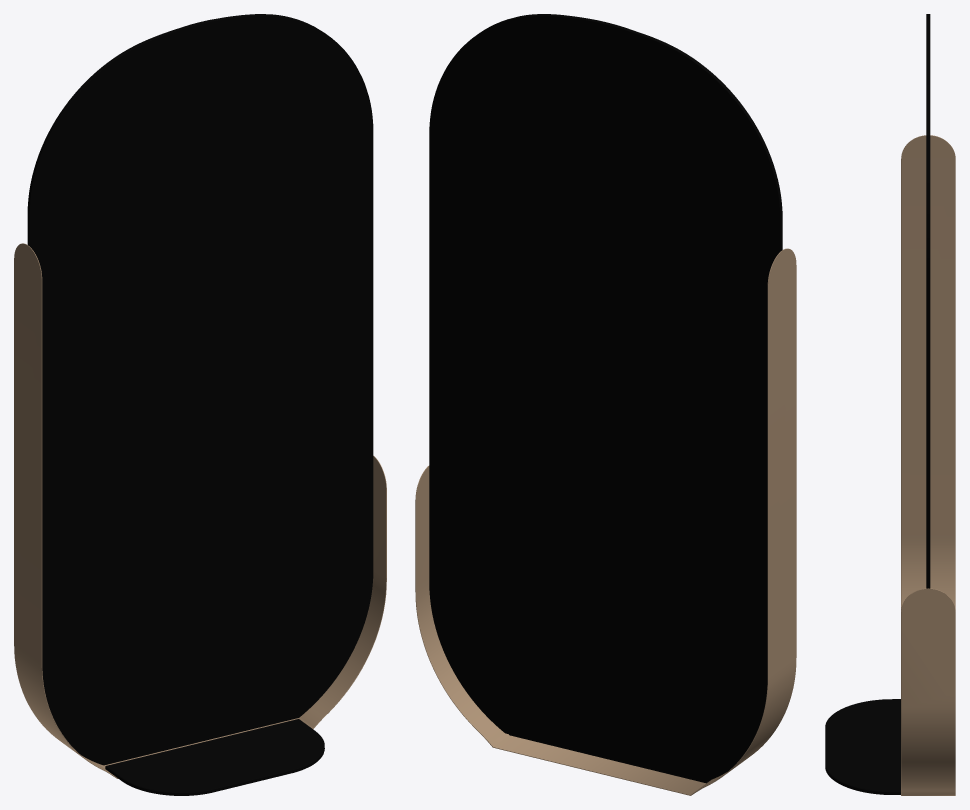
File: designconnected-wonderland-mirror-9048.optimized.glb
3 views of the same model, side by side, from view 1: azimuth 30°, elevation 25°; view 2: azimuth 150°, elevation 25°; view 3: azimuth 270°, elevation 25° (orthographic). The views are drawn at different scales.
Parts seen in each view (by area): view 1: Dante_Wonderland_Mirror_mat1; view 2: Dante_Wonderland_Mirror_mat1; view 3: Dante_Wonderland_Mirror_mat1.
Boxes of the visible parts, x1,y1,x2,y2 form: Dante_Wonderland_Mirror_mat1: (14, 14, 386, 795); Dante_Wonderland_Mirror_mat1: (415, 14, 796, 795); Dante_Wonderland_Mirror_mat1: (825, 14, 955, 795).
Bounding box in the file's own units: 0.5999 × 1.2 × 0.1998.
